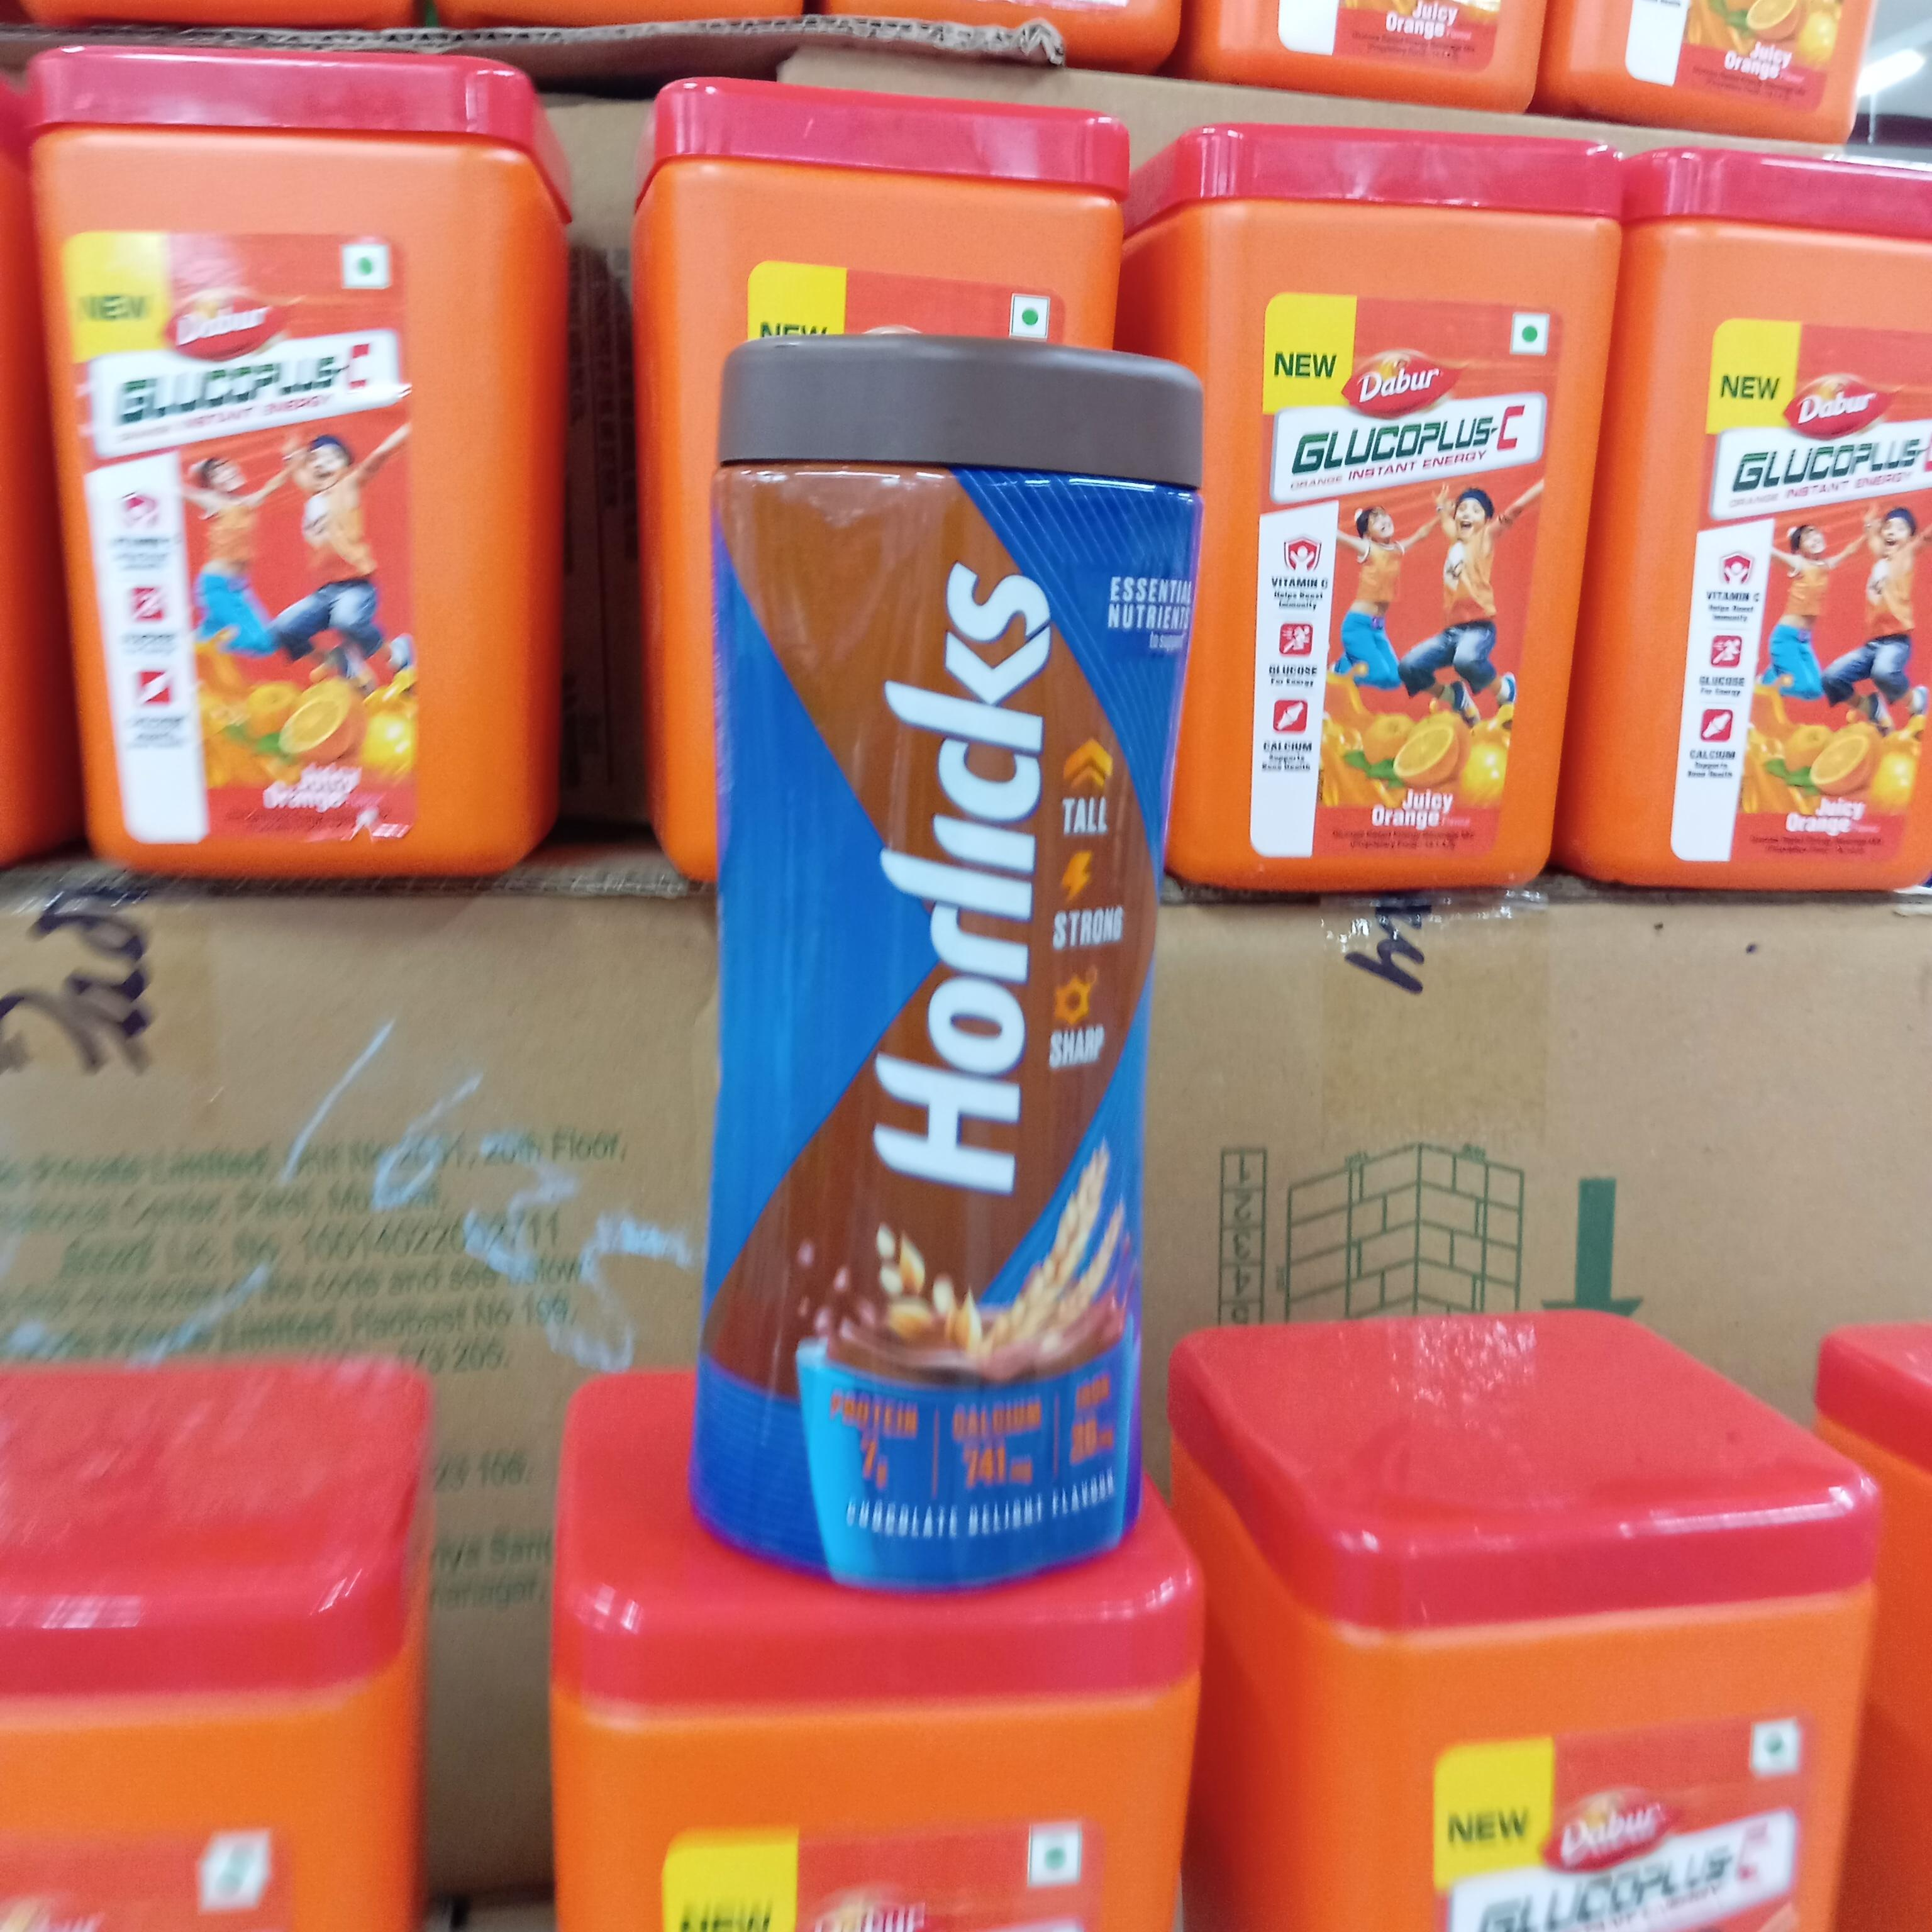HORLICK_CHOCOLATE_500_G_JAR: (692, 320, 1164, 1591)
